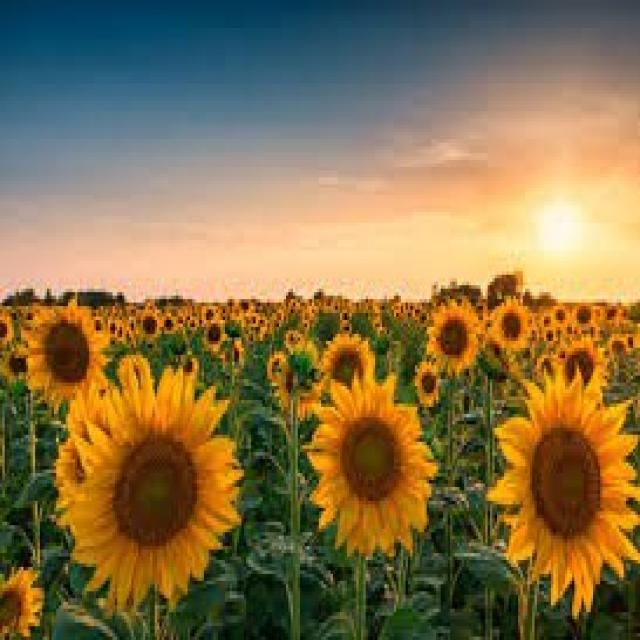sunflower: (54, 351, 244, 612), (485, 365, 638, 619), (302, 368, 438, 556), (21, 299, 108, 407), (424, 299, 478, 372), (0, 564, 42, 636), (319, 327, 373, 383), (277, 344, 319, 411), (558, 334, 605, 389), (488, 296, 530, 351), (412, 358, 438, 407), (3, 343, 27, 379), (202, 320, 226, 351), (574, 302, 595, 330), (0, 308, 14, 345), (140, 310, 158, 338)
